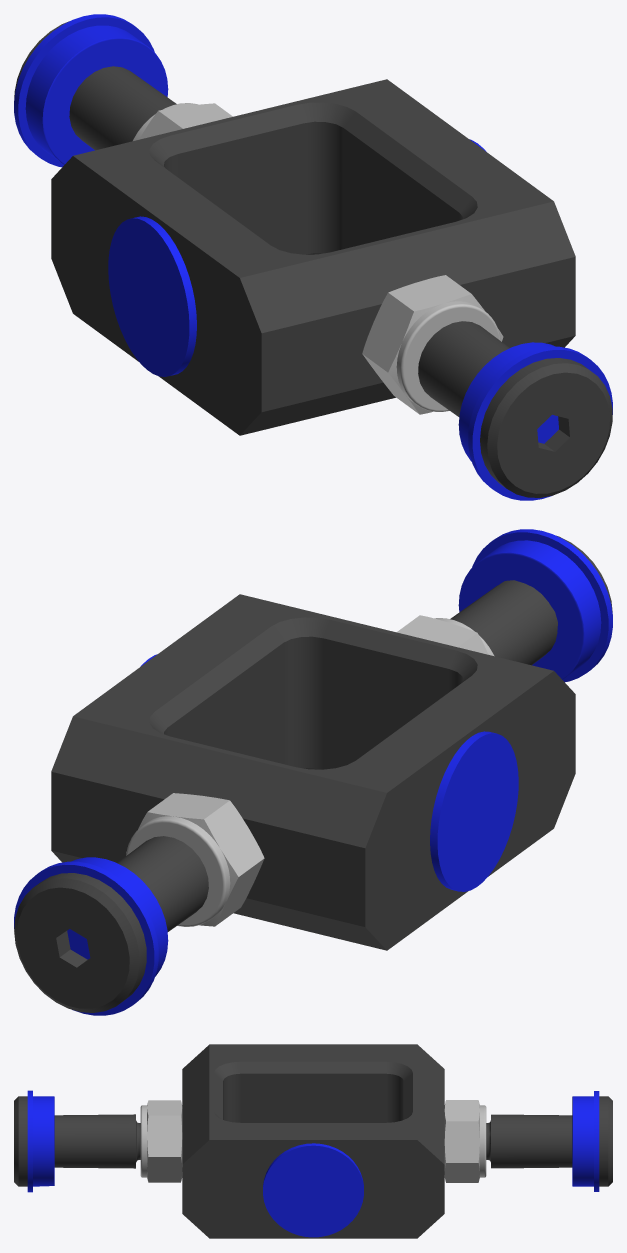
Rendered from head_base_link.dae.
3 views of the same model, one above another, from view 1: azimuth 30°, elevation 25°; view 2: azimuth 150°, elevation 25°; view 3: azimuth 270°, elevation 25° (orthographic). The views are drawn at different scales.
Parts seen in each view (by area): view 1: FBXASC227FBXASC130FBXASC189FBXASC227FBXASC131FBXASC170FBXASC (×8); view 2: FBXASC227FBXASC130FBXASC189FBXASC227FBXASC131FBXASC170FBXASC (×8); view 3: FBXASC227FBXASC130FBXASC189FBXASC227FBXASC131FBXASC170FBXASC (×8).
Boxes of the visible parts, <box> form: FBXASC227FBXASC130FBXASC189FBXASC227FBXASC131FBXASC170FBXASC (×8): <box>14,14,612,500</box>; FBXASC227FBXASC130FBXASC189FBXASC227FBXASC131FBXASC170FBXASC (×8): <box>14,529,612,1015</box>; FBXASC227FBXASC130FBXASC189FBXASC227FBXASC131FBXASC170FBXASC (×8): <box>14,1044,612,1238</box>.
Size of the model in its own units: 0.0262 by 0.0662 by 0.012.
